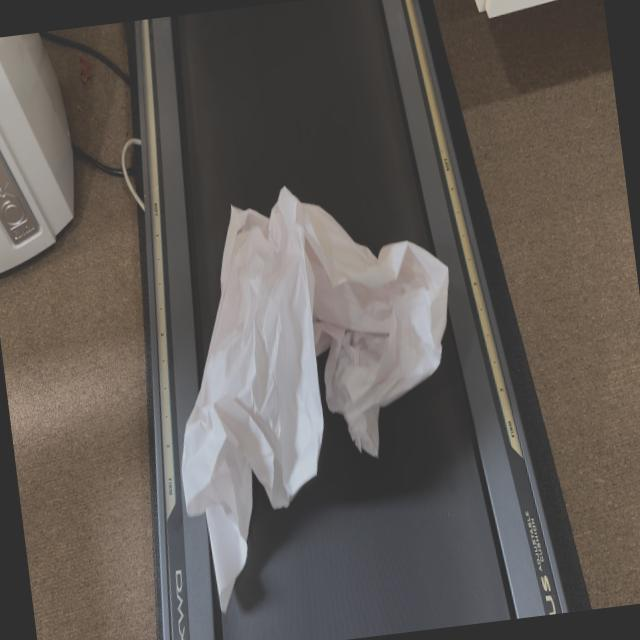Recycle: (145, 165, 488, 618)
